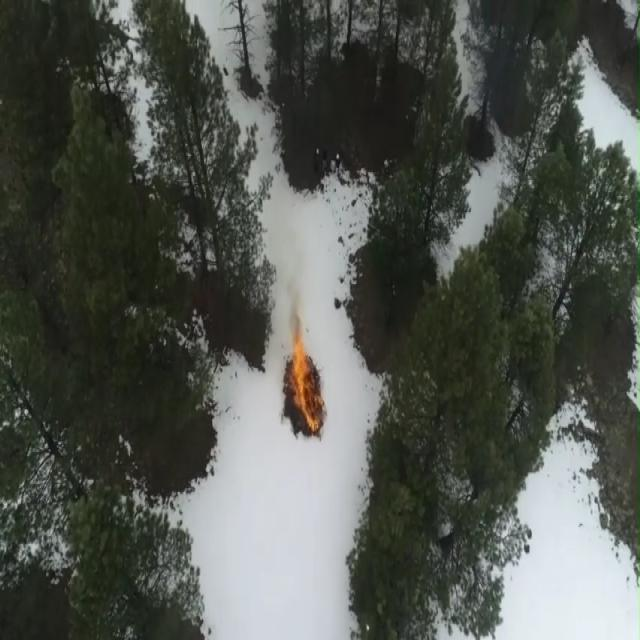Fire: (291, 338, 315, 431)
Smoke: (289, 289, 302, 340)
